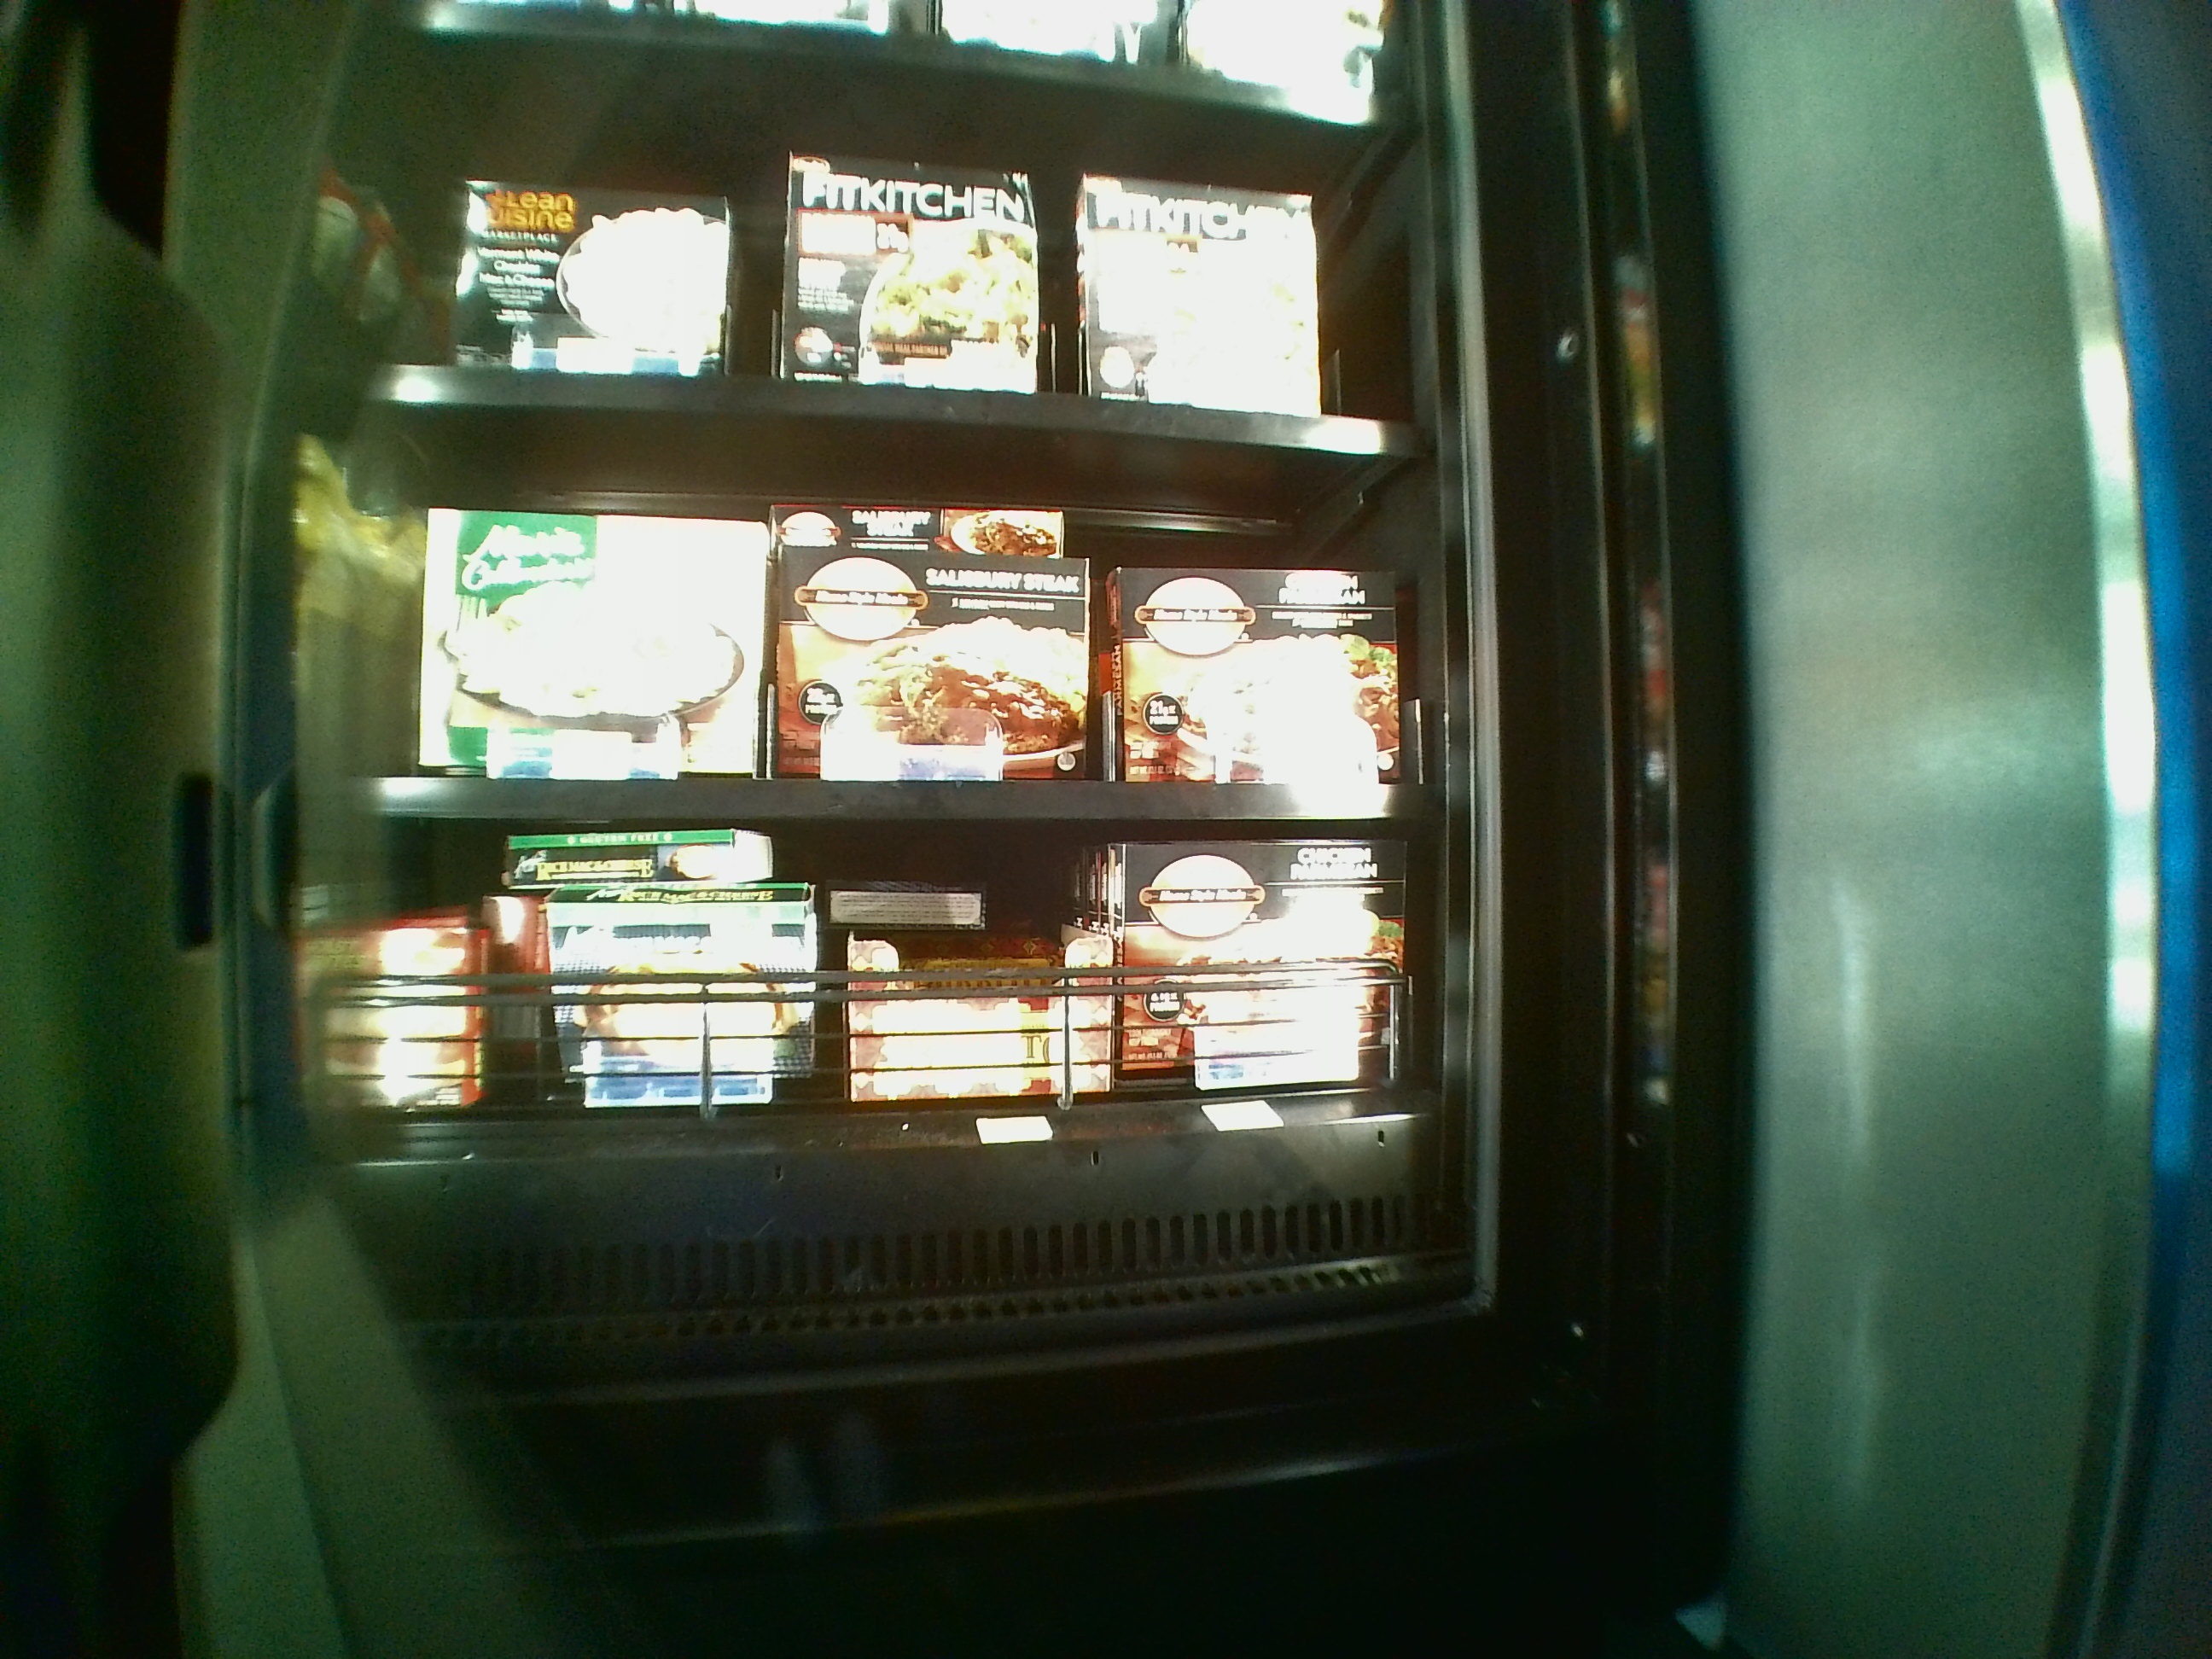shelf: (347, 404, 1418, 819), (347, 828, 1420, 1199)
